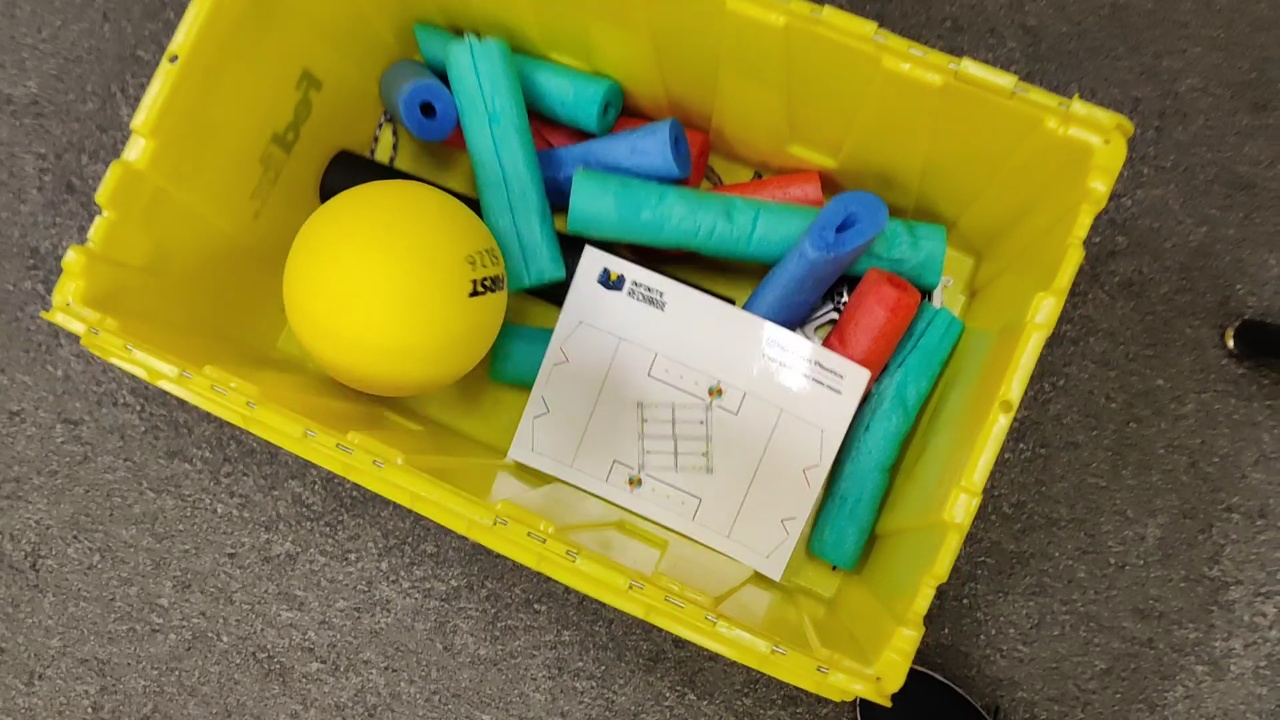Ball: (275, 174, 503, 394)
